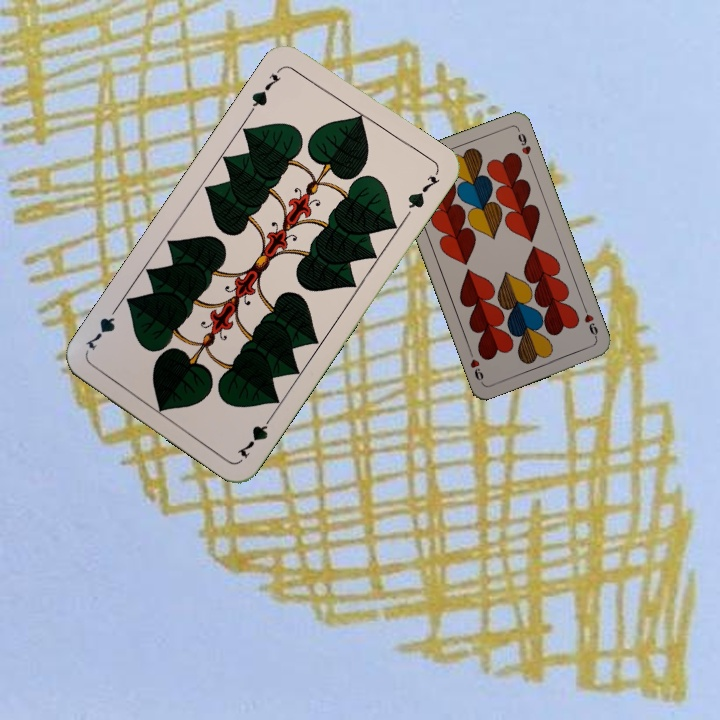G7: (233, 409, 277, 461), (246, 70, 284, 116)
H9: (580, 303, 601, 342)
